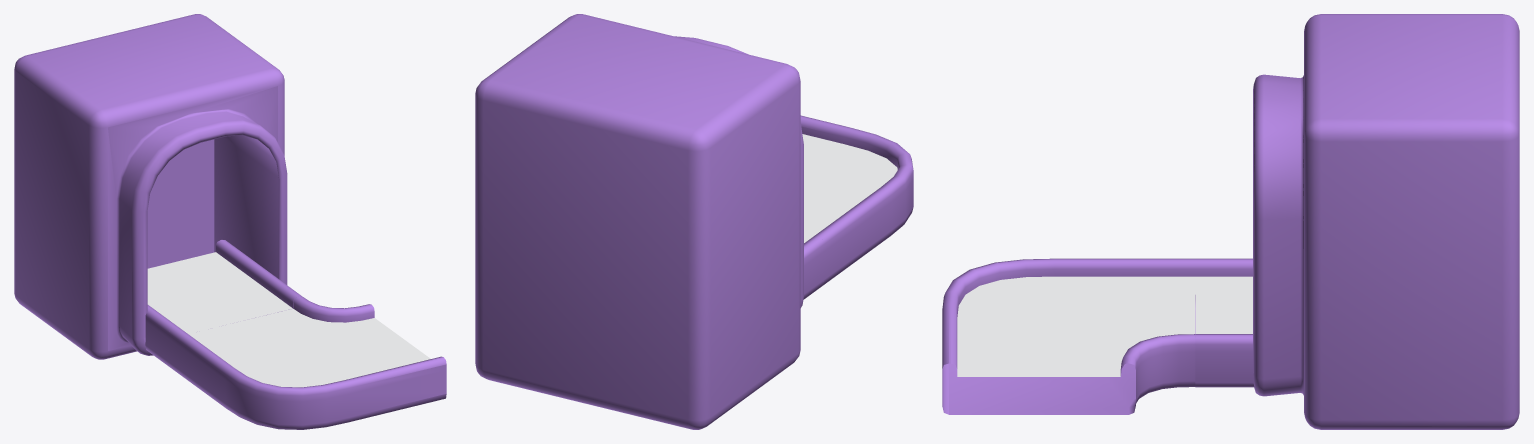
The model's file is ProductBelt-Purple.fbx.
The picture shows the model from 3 angles, left to right: view 1: azimuth 30°, elevation 25°; view 2: azimuth 150°, elevation 25°; view 3: azimuth 270°, elevation 25°; orthographic projection. The views are drawn at different scales.
Visible parts, largest first — view 1: ProductBelt-Purple, L-path.005, I-path.005; view 2: ProductBelt-Purple, L-path.005, I-path.005; view 3: ProductBelt-Purple, L-path.005, I-path.005.
Part boxes in pixels (x1=…): ProductBelt-Purple: x1=14, y1=14, x2=287, y2=359; L-path.005: x1=169, y1=296, x2=446, y2=429; I-path.005: x1=145, y1=240, x2=301, y2=366; ProductBelt-Purple: x1=475, y1=14, x2=803, y2=429; L-path.005: x1=800, y1=115, x2=913, y2=285; I-path.005: x1=803, y1=236, x2=823, y2=299; ProductBelt-Purple: x1=1253, y1=14, x2=1519, y2=429; L-path.005: x1=942, y1=258, x2=1195, y2=414; I-path.005: x1=1195, y1=258, x2=1254, y2=387.
Size of the model in its own units: 137 by 158 by 268.
